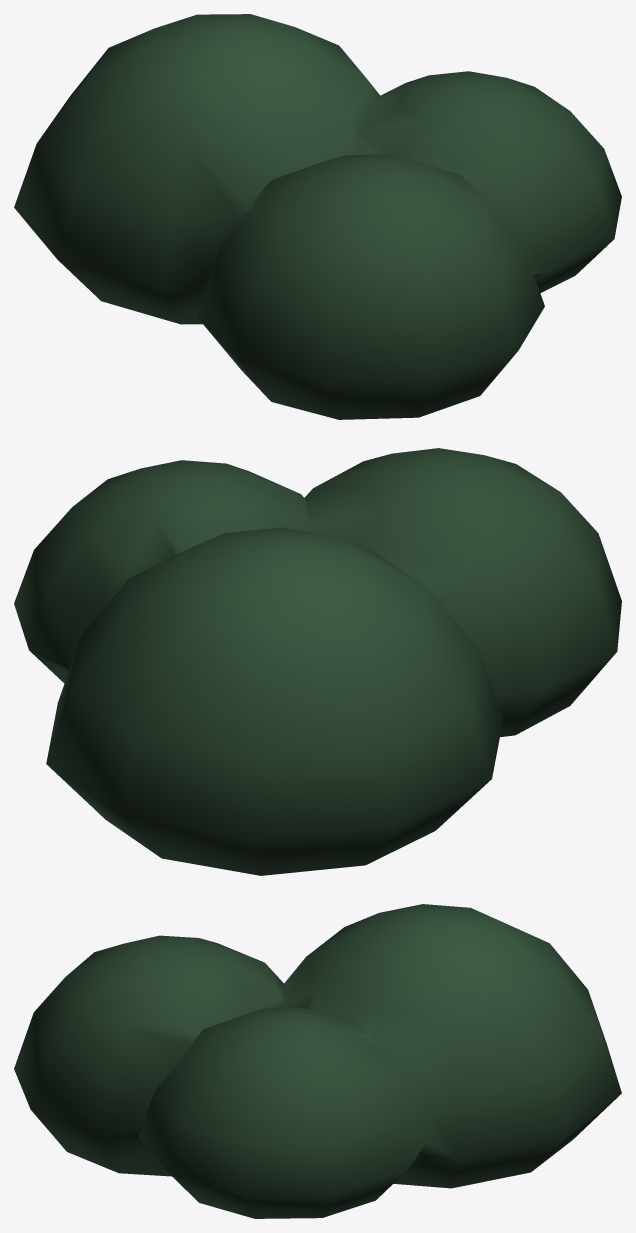
Rendered from plants-bushes-twigs-round-bush_v9.glb.
The picture shows the model from 3 angles, top to bottom: view 1: azimuth 30°, elevation 25°; view 2: azimuth 150°, elevation 25°; view 3: azimuth 270°, elevation 25°; orthographic projection. The views are drawn at different scales.
Visible parts, largest first — view 1: Round Bush_v9; view 2: Round Bush_v9; view 3: Round Bush_v9.
Boxes of the visible parts, x1=… form: Round Bush_v9: x1=14, y1=14, x2=621, y2=419; Round Bush_v9: x1=14, y1=448, x2=621, y2=875; Round Bush_v9: x1=14, y1=904, x2=621, y2=1218.
Bounding box in the file's own units: 0.8156 × 0.4128 × 1.
